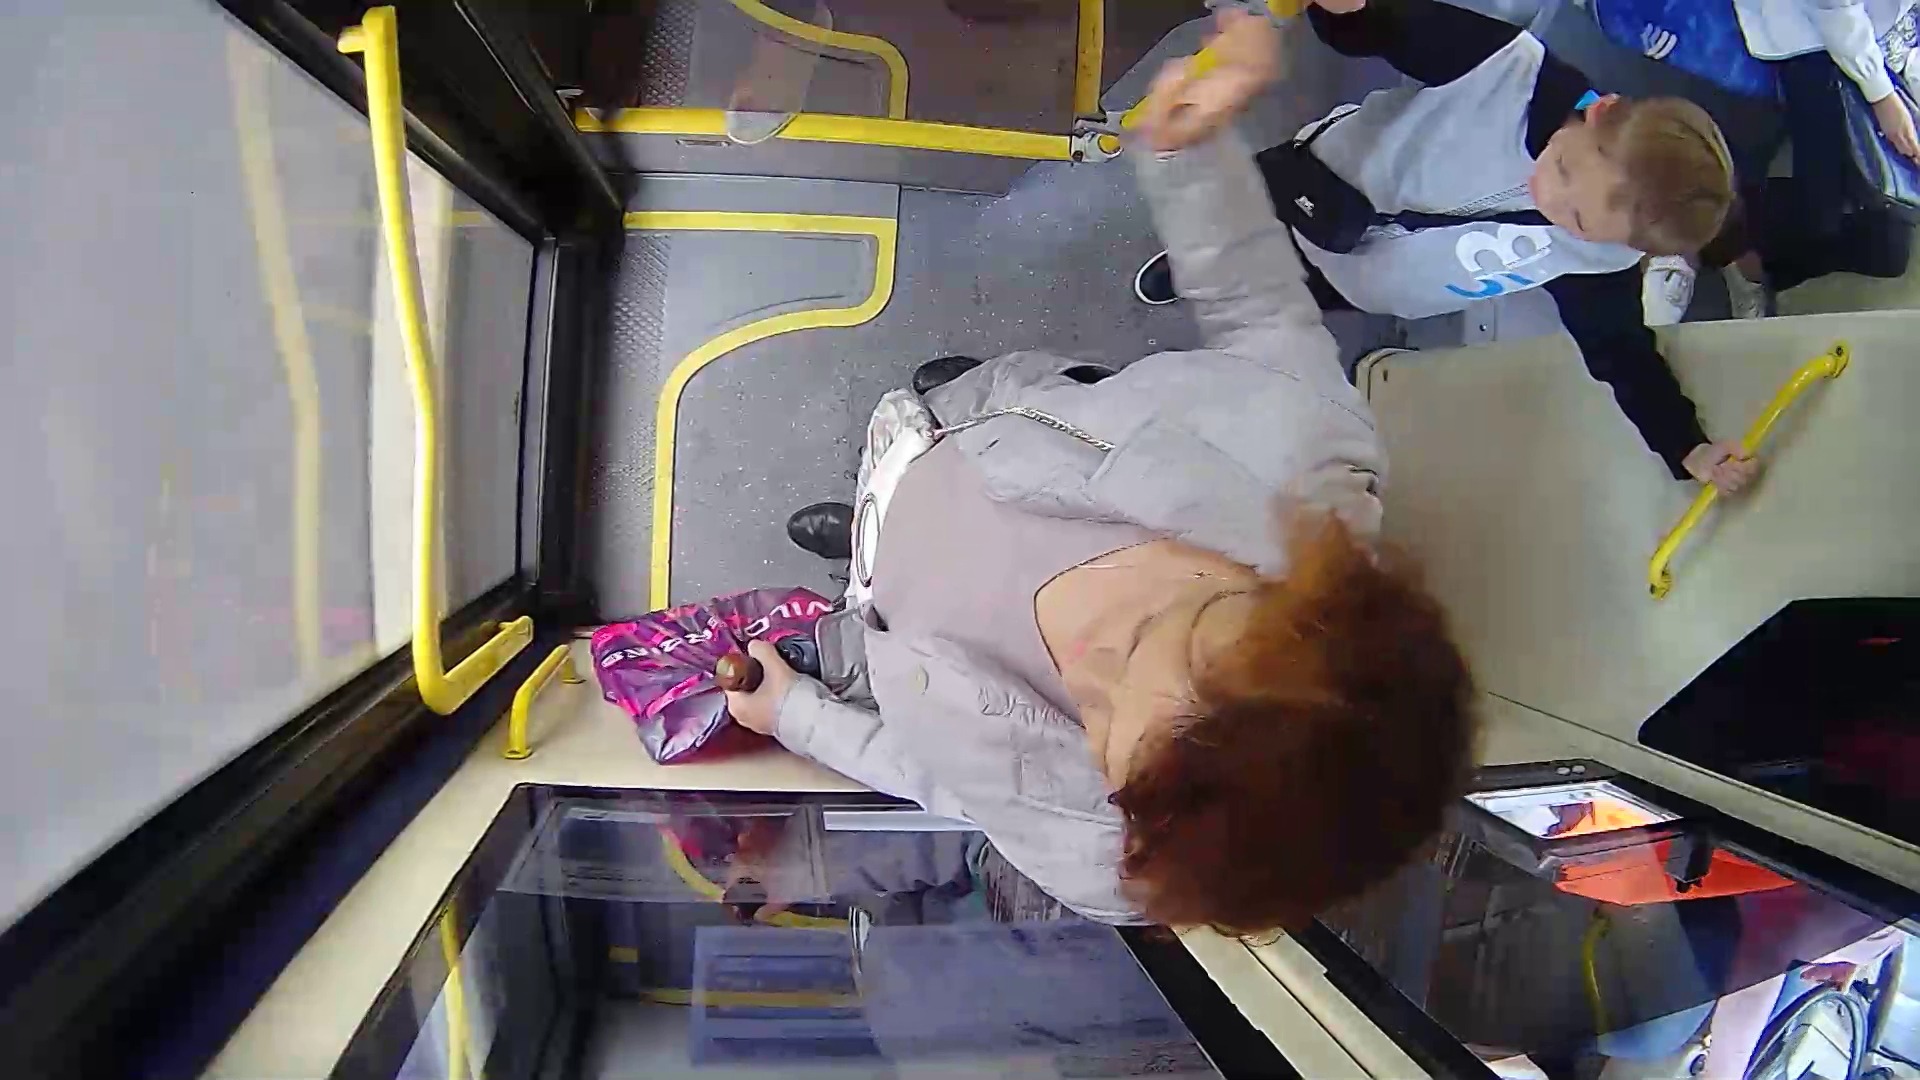person: (618, 181, 1528, 945)
